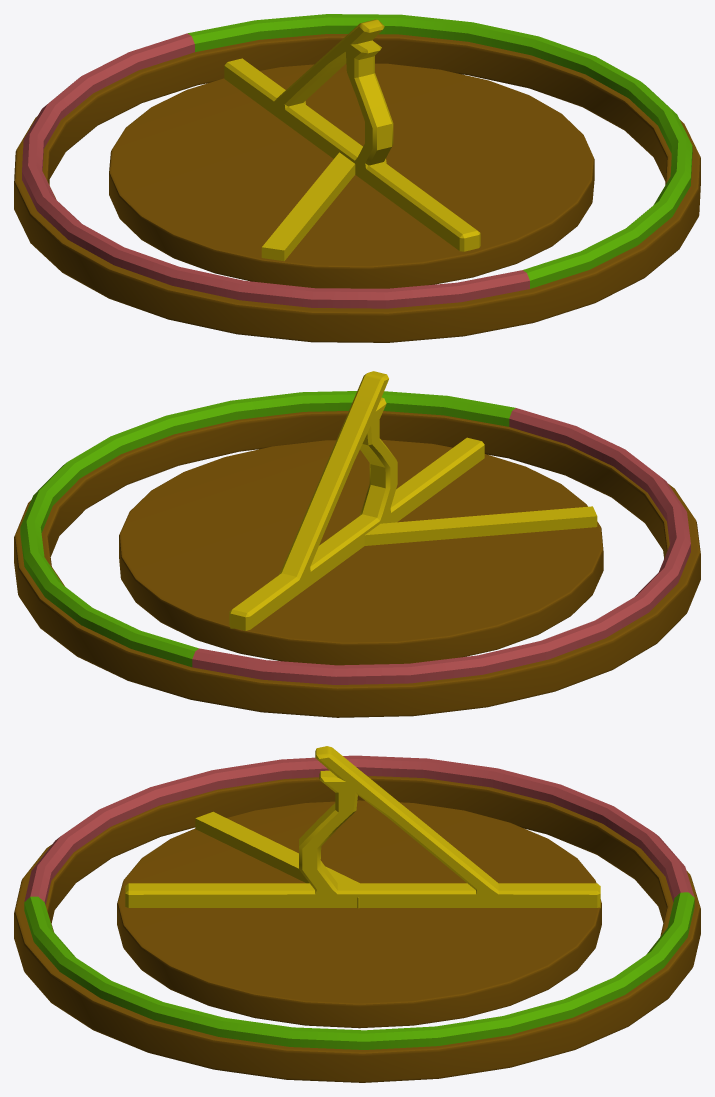
The model's file is Compass1.fbx.
The picture shows the model from 3 angles, top to bottom: view 1: azimuth 30°, elevation 25°; view 2: azimuth 150°, elevation 25°; view 3: azimuth 270°, elevation 25°; orthographic projection.
Parts seen in each view (by area): view 1: Face, Outer_Base, Green2, Green5, Big_Hand, Small_Hand; view 2: Face, Outer_Base, Green2, Big_Hand, Green5, Small_Hand; view 3: Face, Outer_Base, Big_Hand, Green5, Green2, Small_Hand.
Part boxes in pixels (box(x1,y1,x2,y2)): Face: box(109, 63, 594, 288); Outer_Base: box(14, 34, 700, 342); Green2: box(22, 33, 529, 308); Green5: box(188, 14, 692, 288); Big_Hand: box(224, 19, 480, 251); Small_Hand: box(261, 152, 355, 261); Face: box(119, 439, 603, 665); Outer_Base: box(14, 411, 700, 717); Green2: box(192, 408, 690, 684); Big_Hand: box(229, 371, 484, 630); Green5: box(20, 391, 515, 667); Small_Hand: box(364, 506, 597, 545); Face: box(117, 800, 601, 1028); Outer_Base: box(14, 775, 700, 1082); Big_Hand: box(125, 746, 600, 907); Green5: box(24, 892, 694, 1049); Green2: box(24, 755, 694, 904); Small_Hand: box(195, 811, 359, 908).
Bounding box in the file's own units: 3.38 × 1.02 × 3.38.
